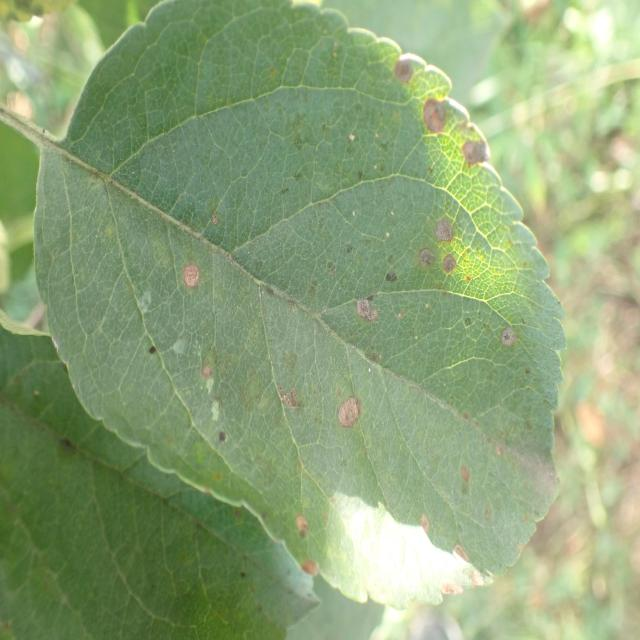frog-eye-leaf-spot: (32, 0, 568, 609)
